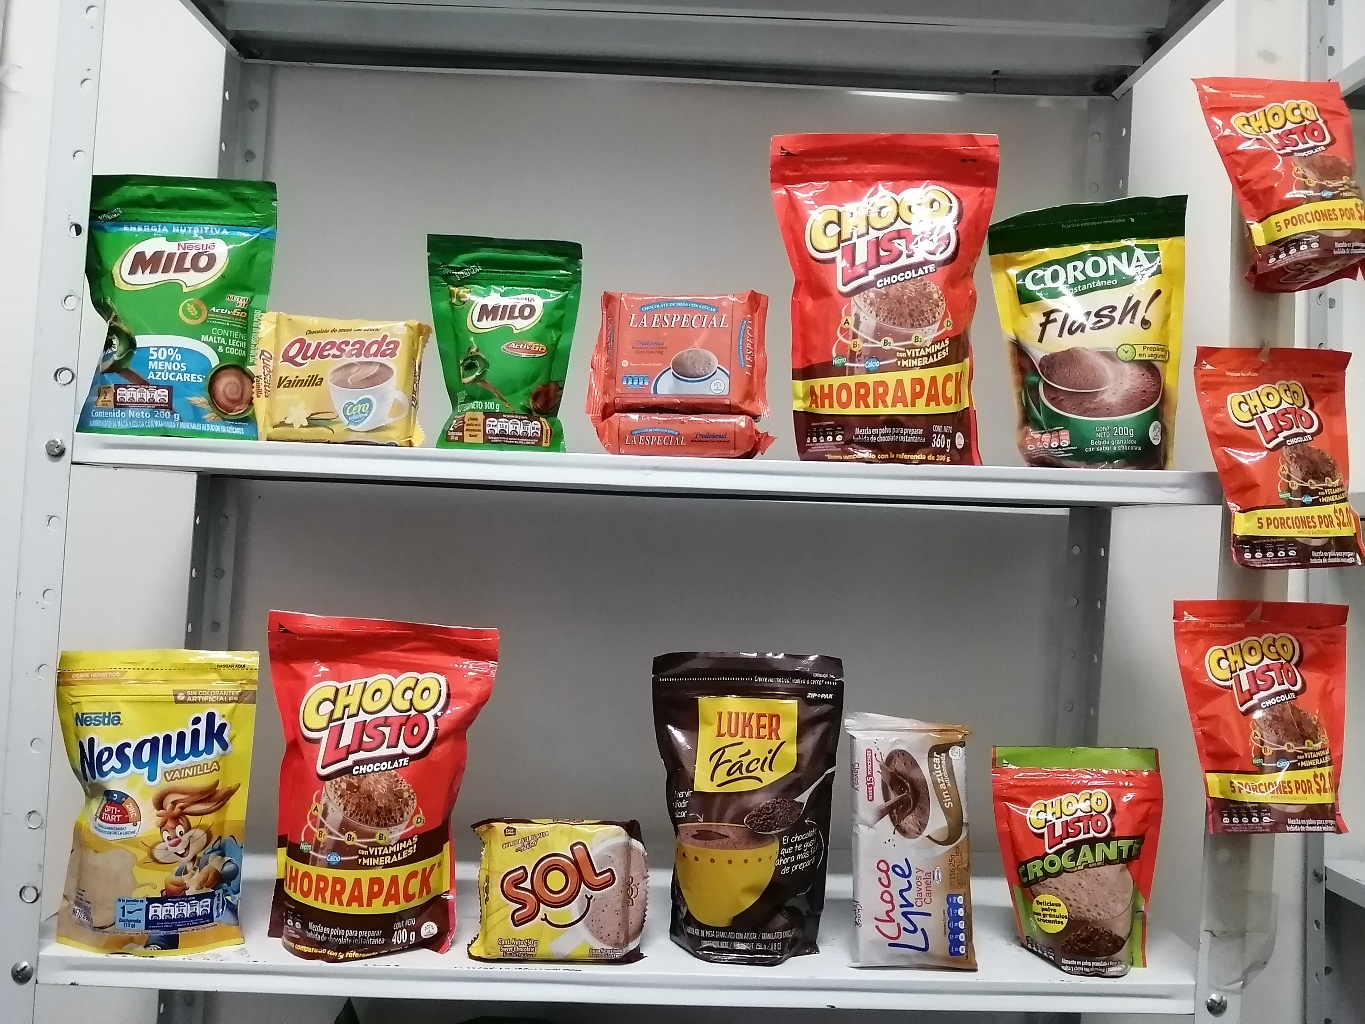COL0170102DYP10000: (964, 715, 1193, 987)
COL0170103DYP10000: (1181, 54, 1354, 309)
COL0170103DYP36000: (736, 106, 1040, 475)
COL0170203DYP10000: (403, 215, 597, 477)
COL0170205DYP20000: (43, 140, 290, 457)
COL0170306DYP20000: (30, 625, 268, 972)
